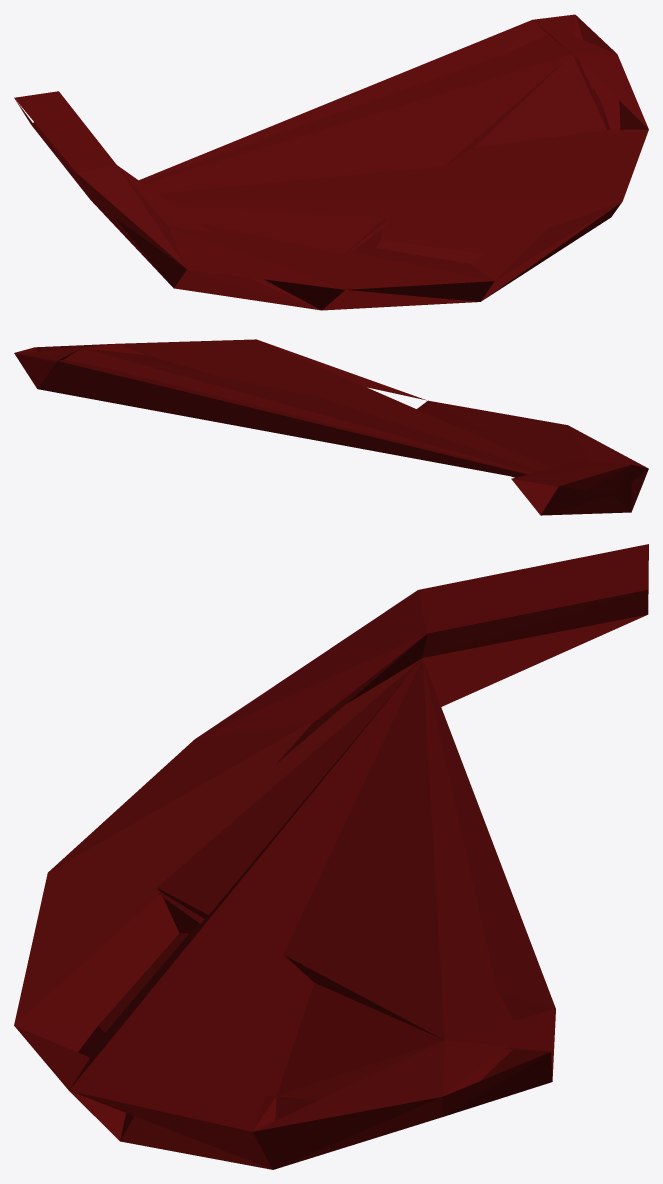
Rendered from S.S._Dolphin_Eternal_Fuel_Dynamo_Wire_1.obj.
3 renders of one model, top to bottom at view 1: azimuth 30°, elevation 25°; view 2: azimuth 150°, elevation 25°; view 3: azimuth 270°, elevation 25°, orthographic. The views are drawn at different scales.
Visible parts, largest first — view 1: S.S._Dolphin_Eternal_Fuel_Dynamo_Wire_1; view 2: S.S._Dolphin_Eternal_Fuel_Dynamo_Wire_1; view 3: S.S._Dolphin_Eternal_Fuel_Dynamo_Wire_1.
Part boxes in pixels (x1,y1,x2,y2): S.S._Dolphin_Eternal_Fuel_Dynamo_Wire_1: [14, 14, 648, 310]; S.S._Dolphin_Eternal_Fuel_Dynamo_Wire_1: [14, 339, 648, 515]; S.S._Dolphin_Eternal_Fuel_Dynamo_Wire_1: [14, 544, 648, 1169].
Size of the model in its own units: 1.51 by 0.4084 by 0.856.
